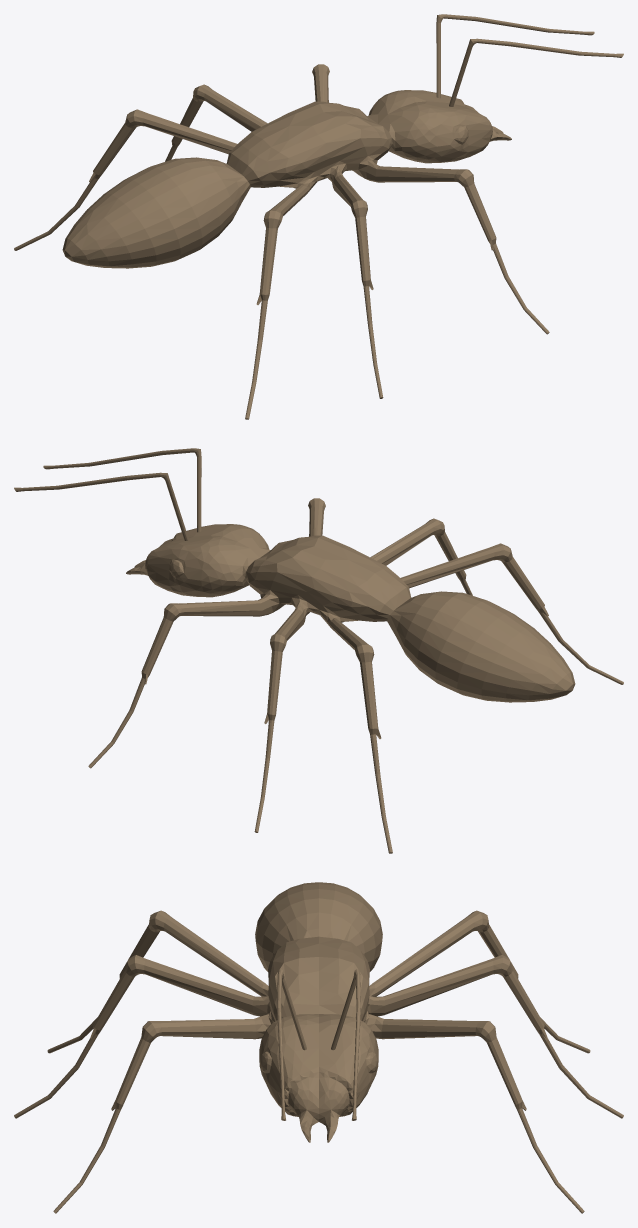
Rendered from ant_black2.dae.
3 views of the same model, one above another, from view 1: azimuth 30°, elevation 25°; view 2: azimuth 150°, elevation 25°; view 3: azimuth 270°, elevation 25° (orthographic). The views are drawn at different scales.
Parts seen in each view (by area): view 1: ant_blk; view 2: ant_blk; view 3: ant_blk.
Boxes of the visible parts, x1,y1,x2,y2 form: ant_blk: (14, 14, 623, 419); ant_blk: (14, 448, 623, 853); ant_blk: (14, 882, 623, 1213).
Bounding box in the file's own units: 0.2374 × 0.1979 × 0.0956.
